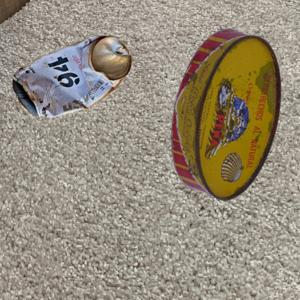can: (11, 33, 135, 121)
